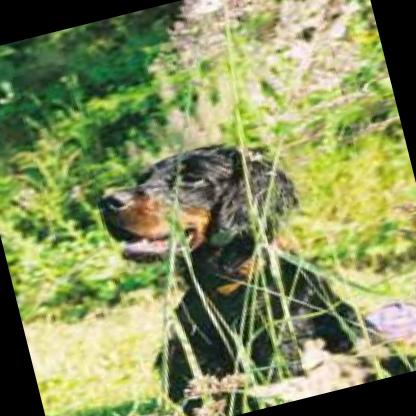Gordon_setter: (85, 104, 416, 416)
